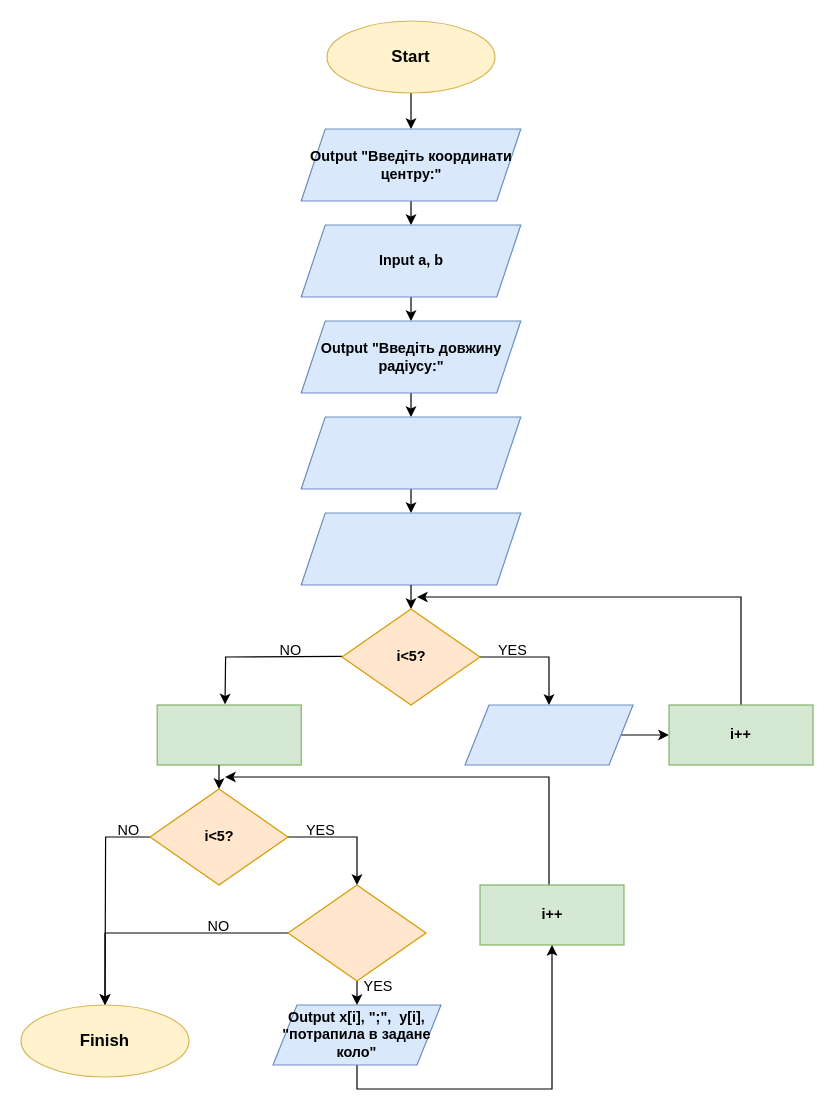
Some shapes in this 834 by 1120 pixel diagram are drawn without their labels. Here are the shapes that lost their labels. From the top down, the box of each, then its label:
(300, 416, 521, 489): Input R
(300, 512, 521, 585): Output "Введіть координати п'яти точок"
(156, 704, 301, 765): i = 0
(464, 704, 633, 765): Input x[i], y[i]
(287, 884, 426, 981): pow(x[i] - a, 2) + pow(y[i] - b, 2) <= pow(R, 2)?
